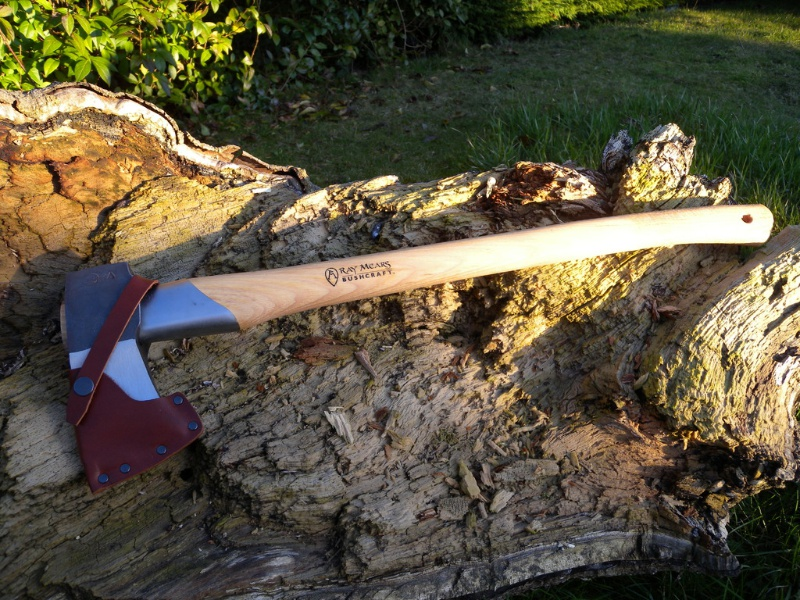axe: (49, 261, 344, 501)
